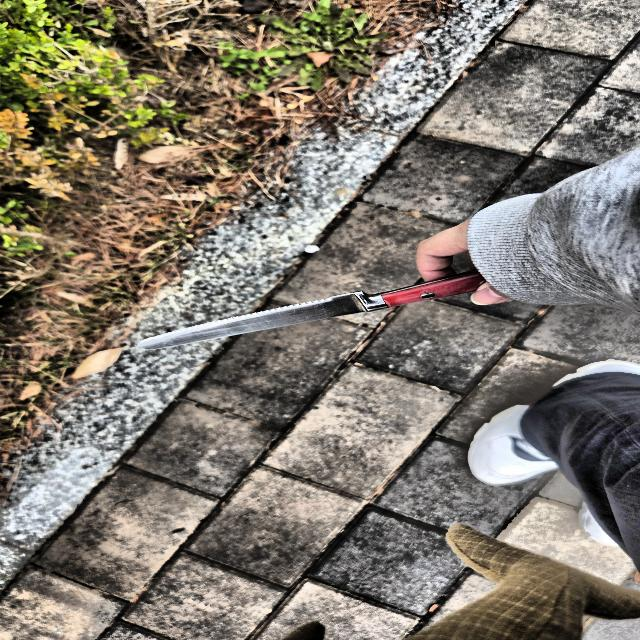knife: (137, 270, 496, 352)
